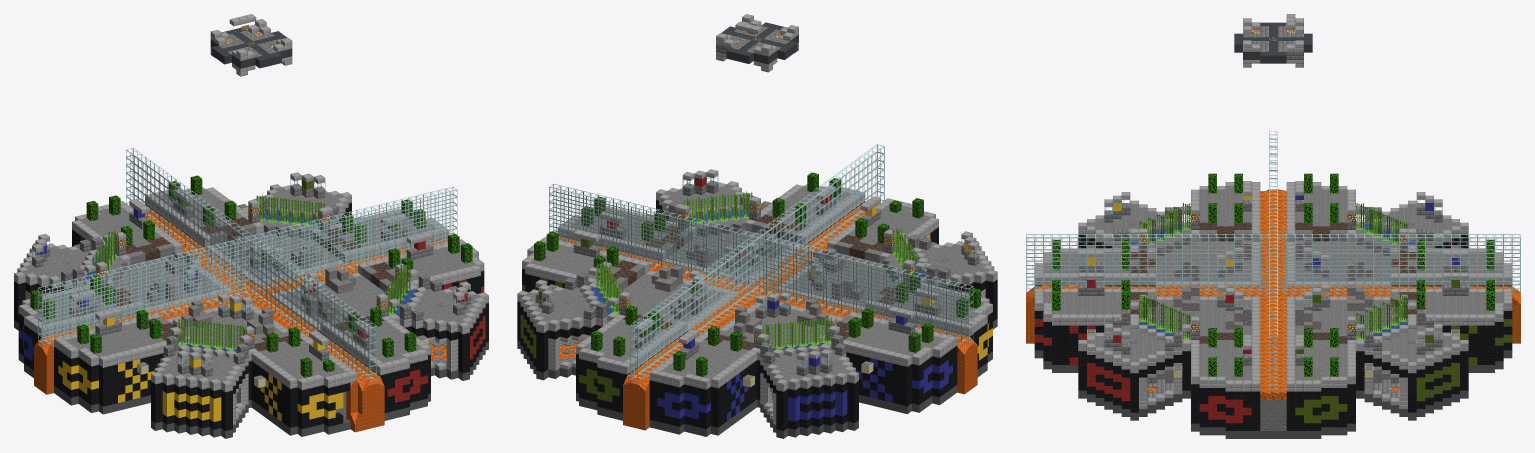
Rendered from minecraft.obj.
3 renders of one model, left to right at view 1: azimuth 30°, elevation 25°; view 2: azimuth 150°, elevation 25°; view 3: azimuth 270°, elevation 25°, orthographic.
Size of the model in its own units: 56 by 40.5 by 57.
